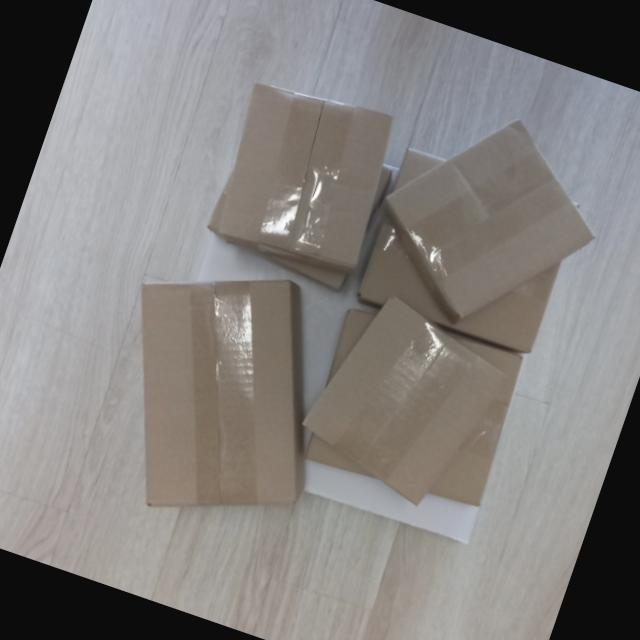box: (66, 229, 370, 562), (350, 76, 630, 362), (277, 272, 529, 528), (192, 60, 410, 286)
